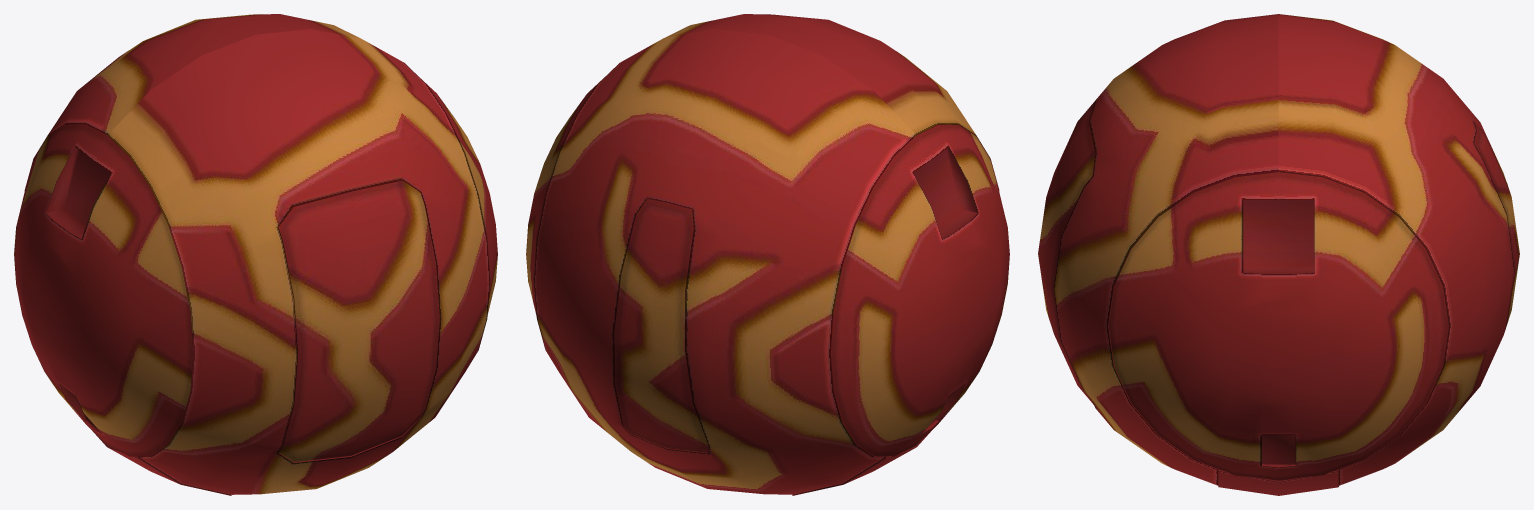
The model's file is ball.glb.
The picture shows the model from 3 angles, left to right: view 1: azimuth 30°, elevation 25°; view 2: azimuth 150°, elevation 25°; view 3: azimuth 270°, elevation 25°; orthographic projection.
Bounding box in the file's own units: 1.69 × 1.75 × 1.75.
Materials: 1 (1 with a texture image).
